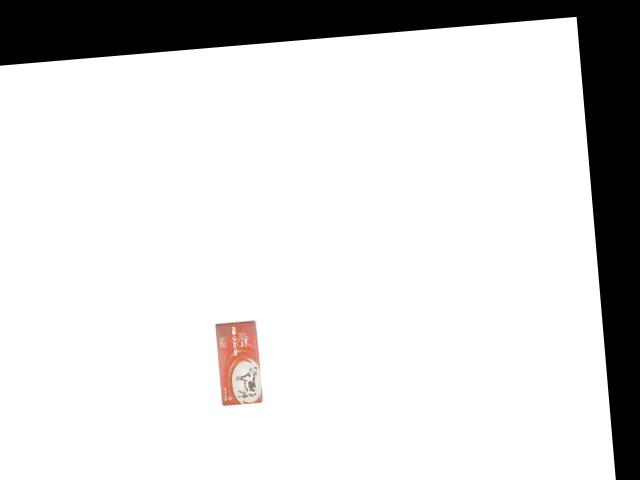chocolate: (212, 318, 262, 406)
